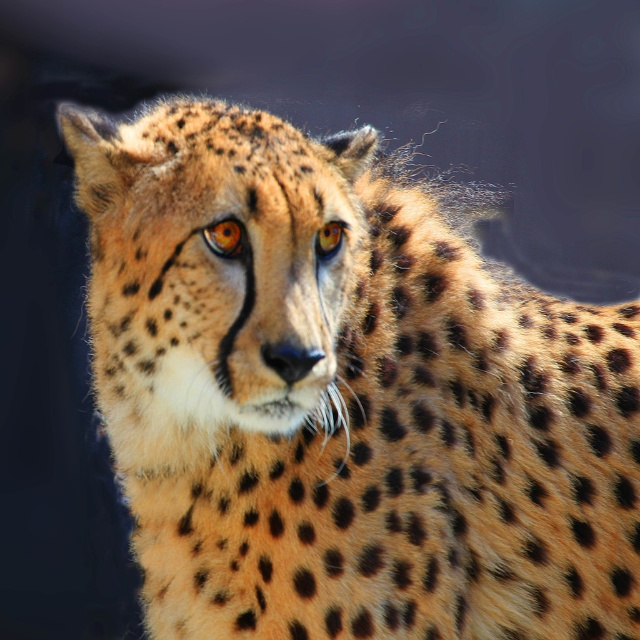Cheetah: (57, 93, 640, 640)
